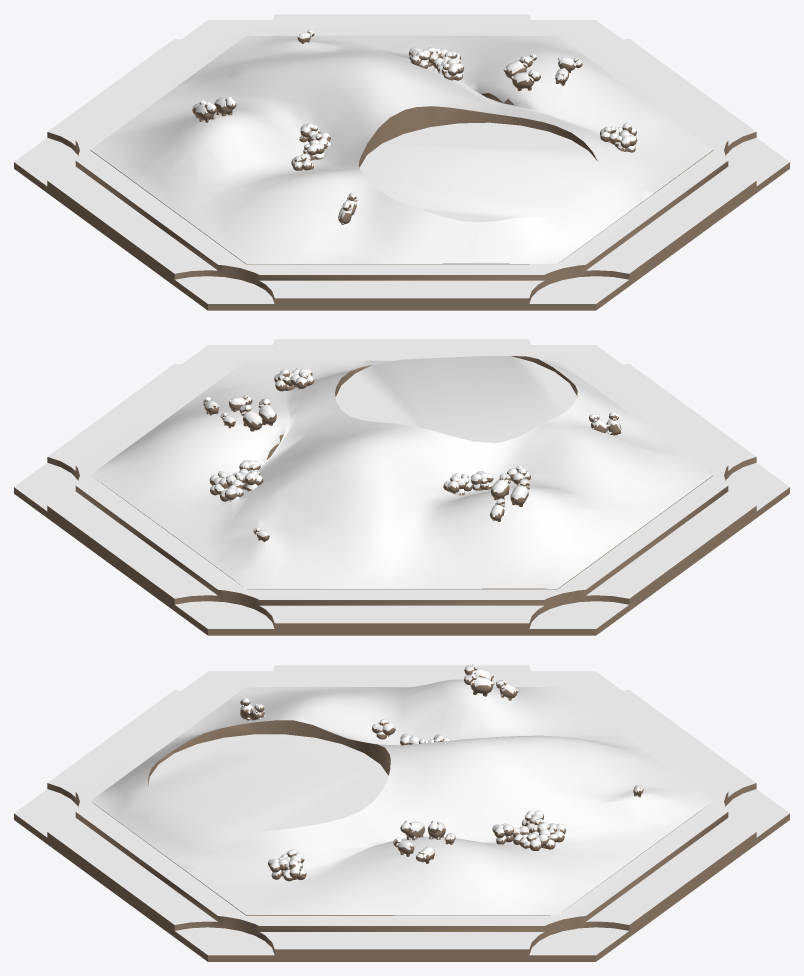
File: hex_ovejas.glb
3 views of the same model, one above another, from view 1: azimuth 30°, elevation 25°; view 2: azimuth 150°, elevation 25°; view 3: azimuth 270°, elevation 25° (orthographic).
Parts seen in each view (by area): view 1: Top, Side; view 2: Top, Side; view 3: Top, Side.
Boxes of the visible parts, bbox=[...] form: Top: bbox=[14, 14, 789, 303]; Side: bbox=[14, 32, 789, 310]; Top: bbox=[14, 339, 789, 628]; Side: bbox=[14, 356, 789, 635]; Top: bbox=[14, 664, 789, 955]; Side: bbox=[14, 667, 789, 961].
Bounding box in the file's own units: 156 × 20.31 × 180.
